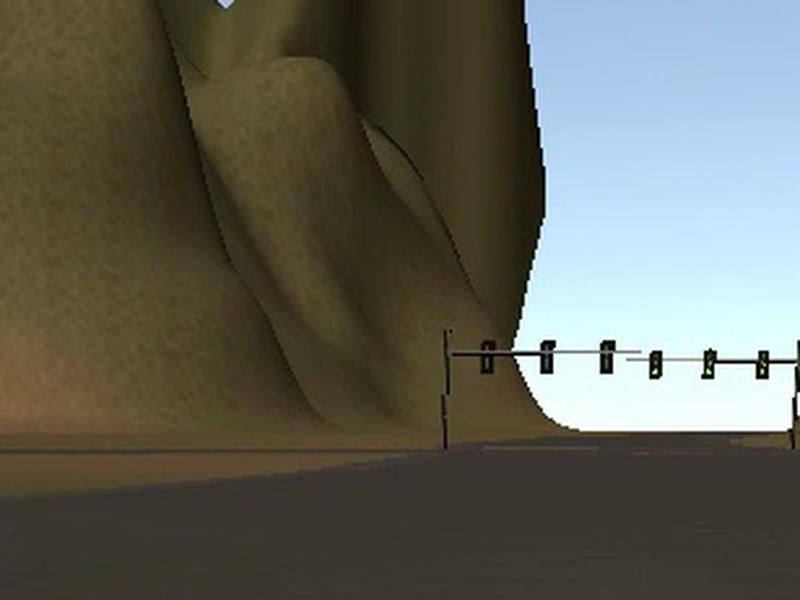Green: (701, 349, 716, 379), (755, 349, 770, 379), (648, 349, 662, 379)
